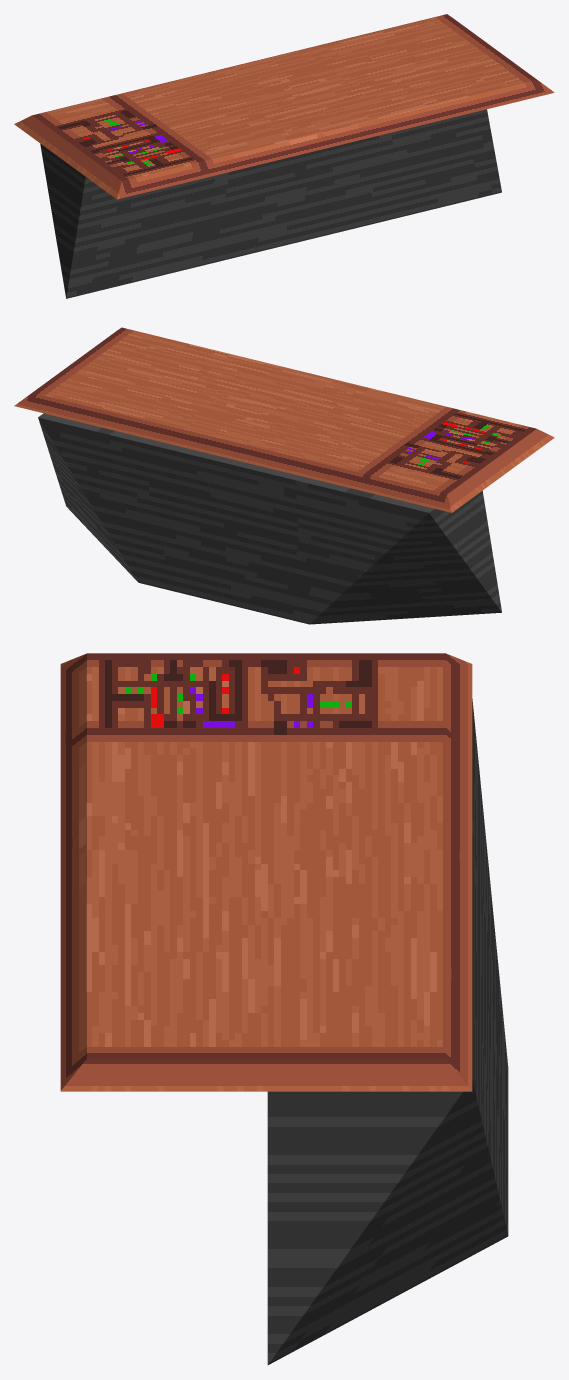
3 views of the same model, one above another, from view 1: azimuth 30°, elevation 25°; view 2: azimuth 150°, elevation 25°; view 3: azimuth 270°, elevation 25° (orthographic). The views are drawn at different scales.
Visible parts, largest first — view 1: ss3d_09_lux_dsk; view 2: ss3d_09_lux_dsk; view 3: ss3d_09_lux_dsk.
Boxes of the visible parts, box(x1,y1,x2,y2) form: ss3d_09_lux_dsk: box(14, 14, 554, 298); ss3d_09_lux_dsk: box(14, 327, 554, 624); ss3d_09_lux_dsk: box(60, 653, 508, 1364).
Bounding box in the file's own units: 3.28 × 1.06 × 1.45.
Materials: 1 (1 with a texture image).
